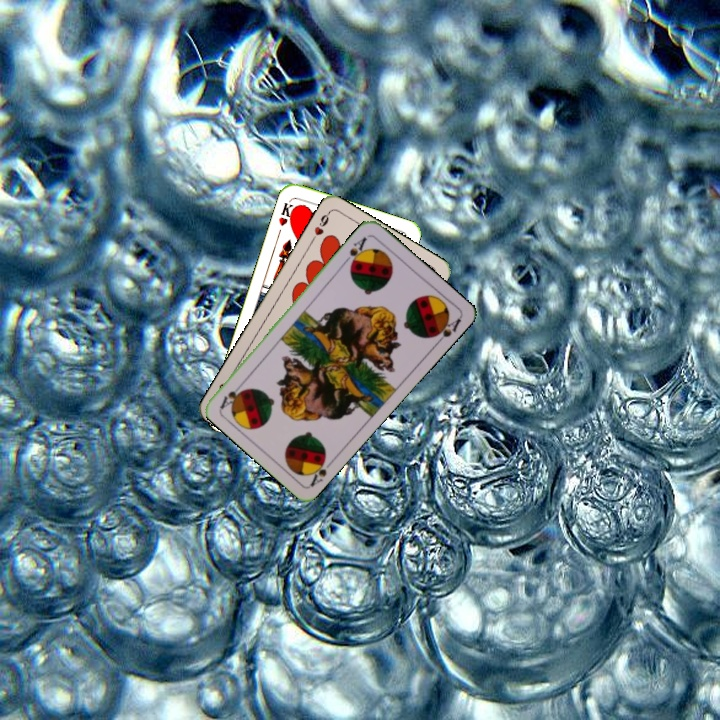H9: (307, 208, 332, 245)
HK: (275, 197, 299, 229)
SA: (304, 451, 337, 489), (340, 233, 369, 270)
